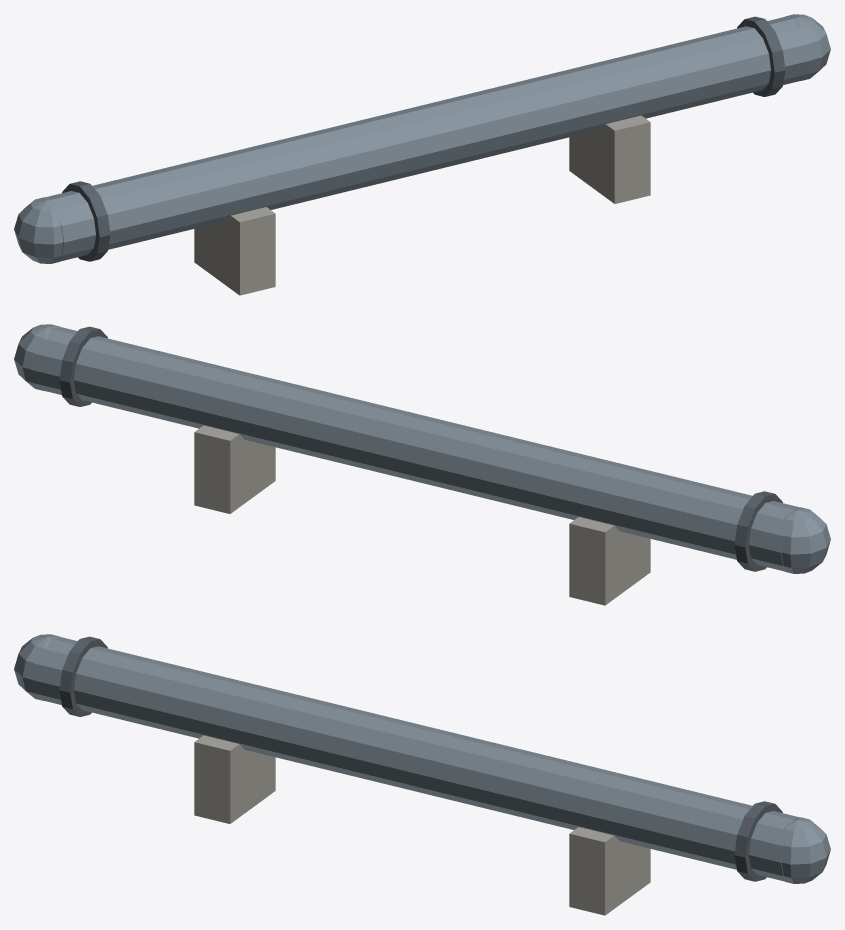
The model's file is potrubi_sikme.glb.
3 renders of one model, top to bottom at view 1: azimuth 30°, elevation 25°; view 2: azimuth 150°, elevation 25°; view 3: azimuth 330°, elevation 25°, orthographic.
Parts seen in each view (by area): view 1: potrubi_sikme; view 2: potrubi_sikme; view 3: potrubi_sikme.
Part boxes in pixels (x1,y1,x2,y2): potrubi_sikme: [14, 14, 830, 295]; potrubi_sikme: [14, 324, 830, 605]; potrubi_sikme: [14, 634, 830, 915].
Bounding box in the file's own units: 11.31 × 1.69 × 1.1.
1 material, 1 textured.
